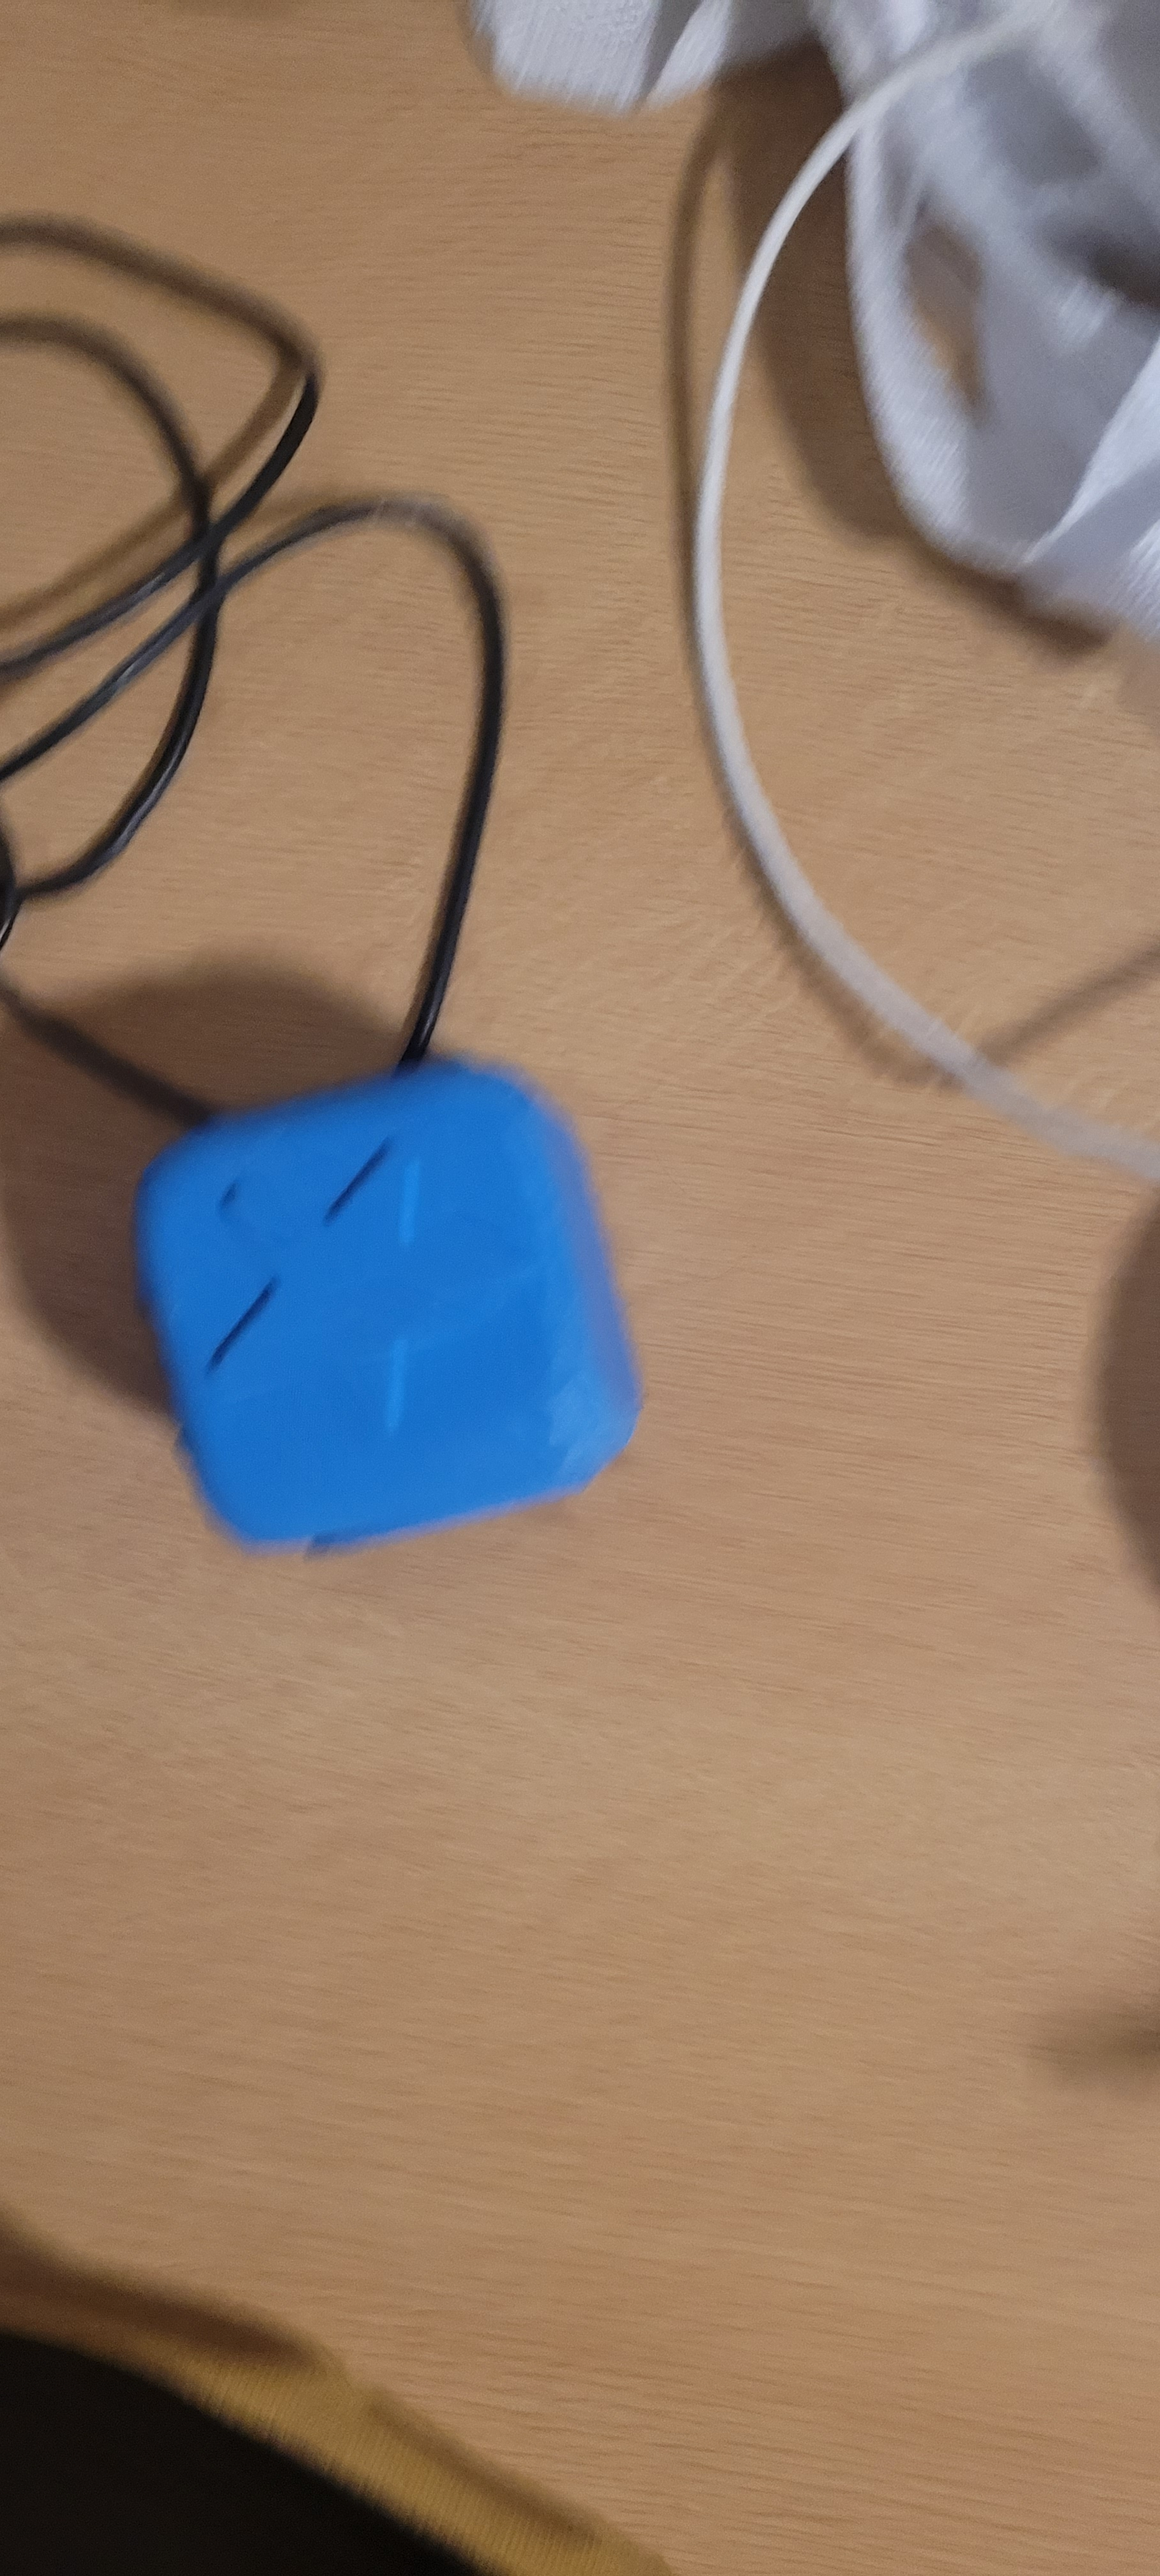Star: (112, 1165, 562, 1433)
